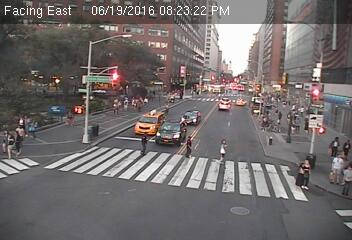neg: (117, 175, 143, 209), (281, 44, 303, 73), (166, 192, 188, 220), (65, 164, 85, 190), (36, 60, 55, 85), (124, 46, 142, 71), (221, 190, 238, 214), (68, 97, 85, 120), (169, 58, 186, 80), (84, 56, 101, 78), (261, 129, 277, 151), (268, 97, 283, 117), (87, 129, 101, 149), (216, 66, 230, 85), (240, 44, 253, 62)
pos: (292, 154, 320, 190), (322, 151, 347, 183), (6, 120, 30, 153), (215, 136, 236, 164), (180, 132, 201, 159), (137, 127, 156, 153), (324, 133, 343, 158)
